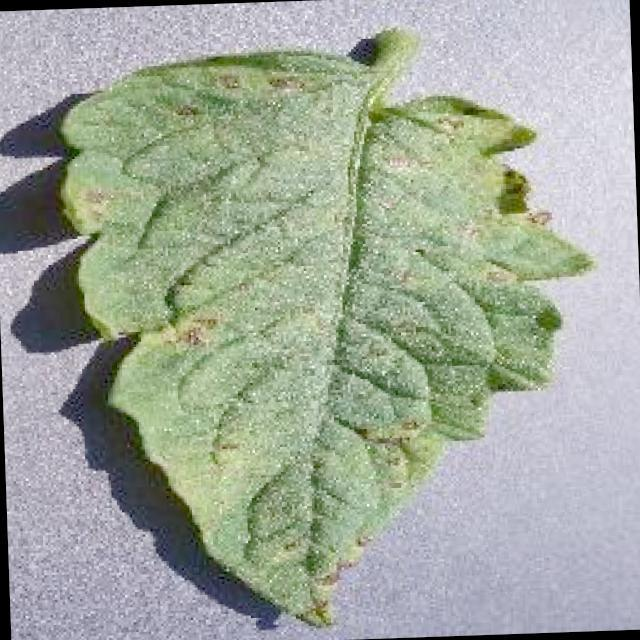Tomato Septoria spot leaf: (53, 40, 600, 640)
